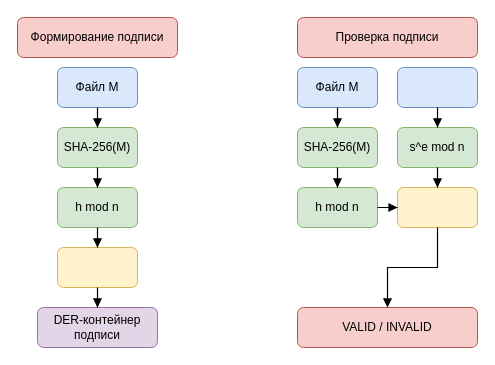
Image size: 495x365. Some labels were removed from this diagram. The shapes that lost their labels are listed below. From the top down, each one's centre as x and y in pixels, then its label:
At (437,87): "Подпись s".
At (437,207): "Сравнение".
At (97,267): "s = h^d mod n".
